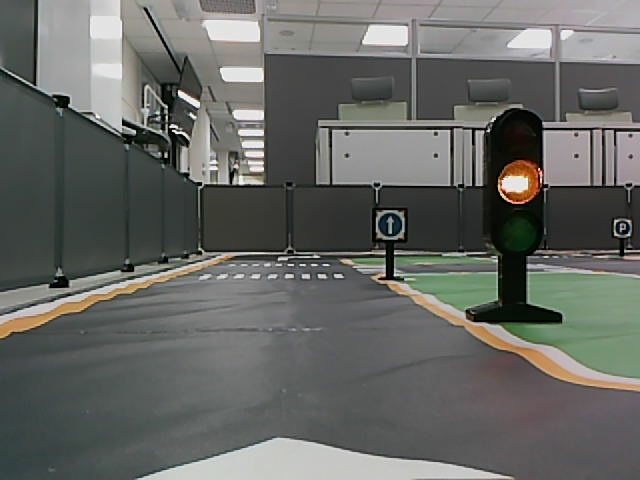crosswalk: (198, 271, 347, 281), (228, 262, 332, 268)
go: (377, 212, 404, 238)
park: (615, 220, 630, 237)
